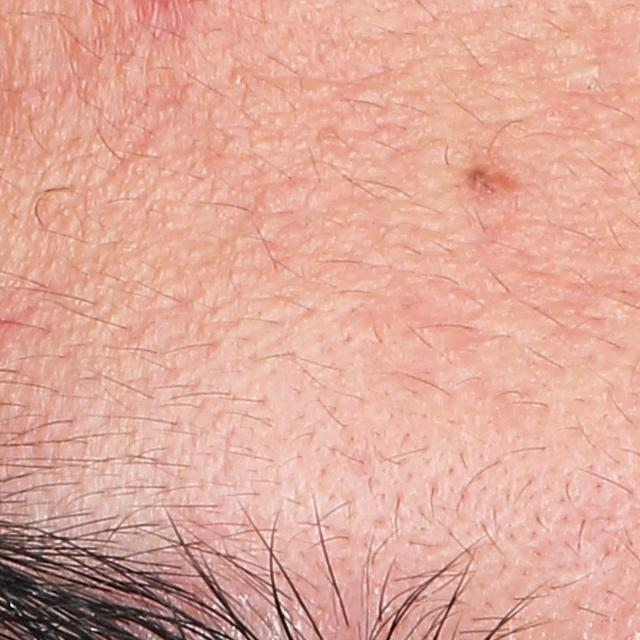nevus: (462, 161, 523, 209)
